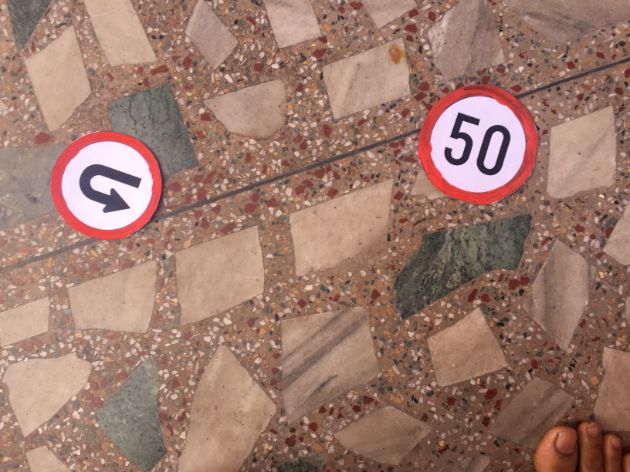speed-50: (418, 84, 538, 202)
u-turn: (51, 131, 158, 240)
